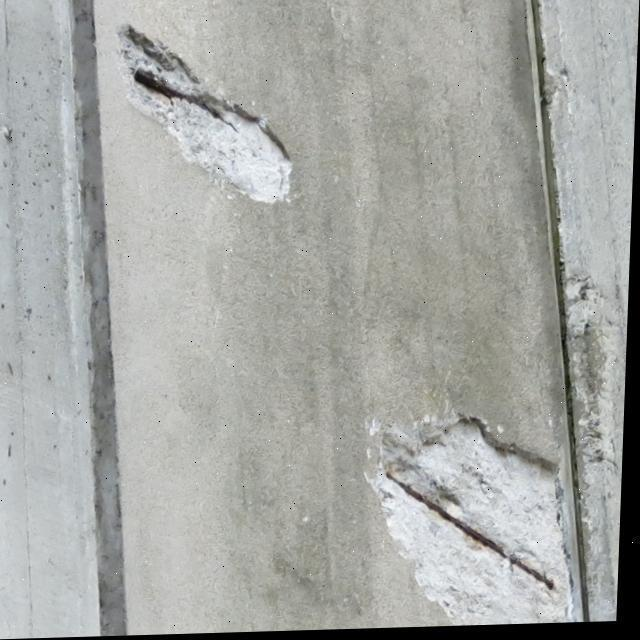D0w0: (374, 414, 577, 613), (126, 26, 292, 201)
